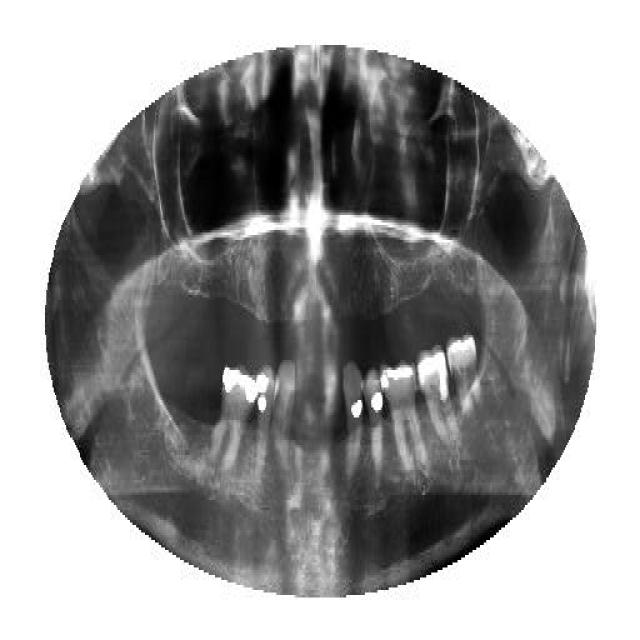Fillings: (381, 358, 429, 472), (212, 362, 256, 472), (417, 342, 458, 450), (342, 360, 366, 478), (252, 367, 278, 475), (363, 368, 385, 480)
